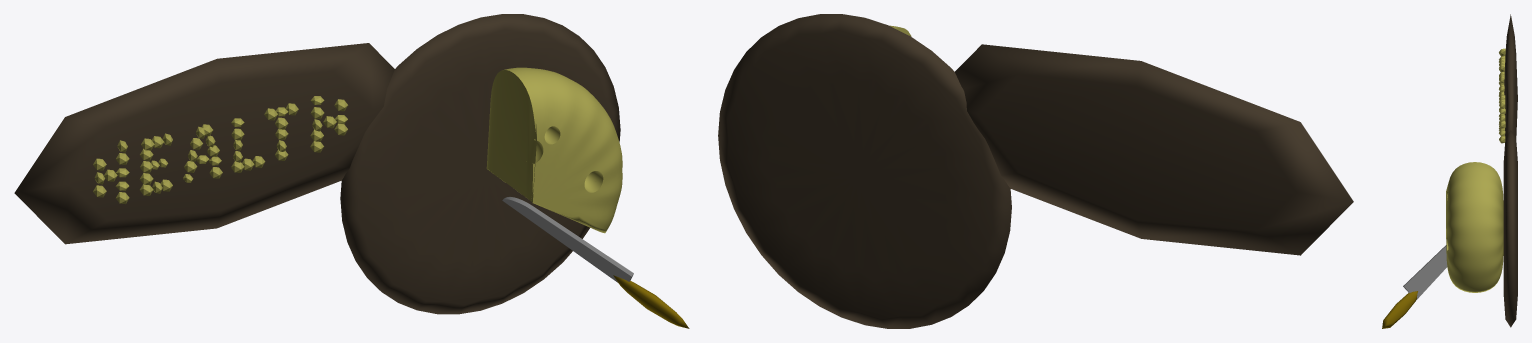
The model's file is 37.5prcHealth_Bar.fbx.
The picture shows the model from 3 angles, left to right: view 1: azimuth 30°, elevation 25°; view 2: azimuth 150°, elevation 25°; view 3: azimuth 270°, elevation 25°; orthographic projection. The views are drawn at different scales.
Parts seen in each view (by area): view 1: cheeseboard, pCube3, polySurface1, polySurface2, pCube1, pCube2; view 2: cheeseboard, pCube3; view 3: polySurface1, cheeseboard, pCube3, pCube1, pCube2, polySurface2.
Boxes of the visible parts, box(x1,y1,x2,y2) form: cheeseboard: box(340, 14, 620, 314); pCube3: box(14, 43, 394, 244); polySurface1: box(488, 67, 622, 233); polySurface2: box(486, 70, 607, 202); pCube1: box(502, 197, 633, 282); pCube2: box(613, 275, 689, 328); cheeseboard: box(718, 14, 1011, 328); pCube3: box(955, 44, 1353, 255); polySurface1: box(1446, 162, 1503, 292); cheeseboard: box(1503, 130, 1517, 327); pCube3: box(1504, 14, 1517, 137); pCube1: box(1403, 245, 1447, 300); pCube2: box(1382, 291, 1417, 328); polySurface2: box(1446, 174, 1503, 256).
Size of the model in its own units: 29.91 by 14.91 by 9.5.
